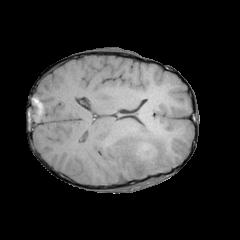glioma: (104, 112, 169, 177)
